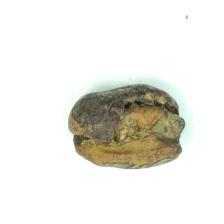NG: (68, 84, 185, 170)
